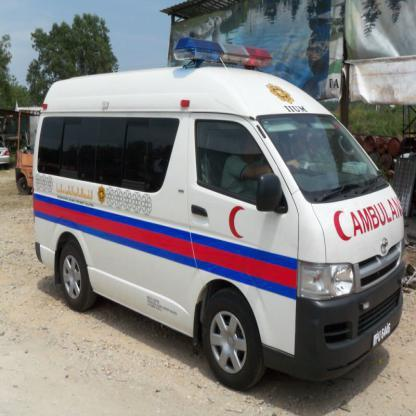Ambulance - v1 Ambulance last generate: (31, 28, 406, 389)
